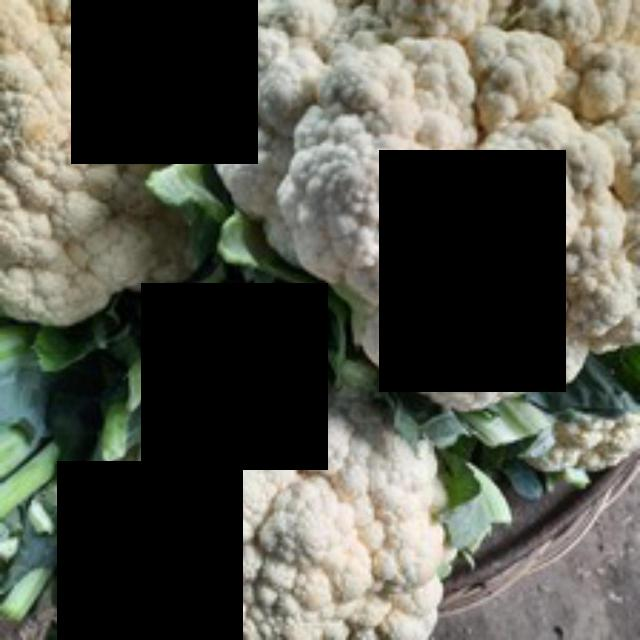cauliflower: (200, 0, 637, 422)
